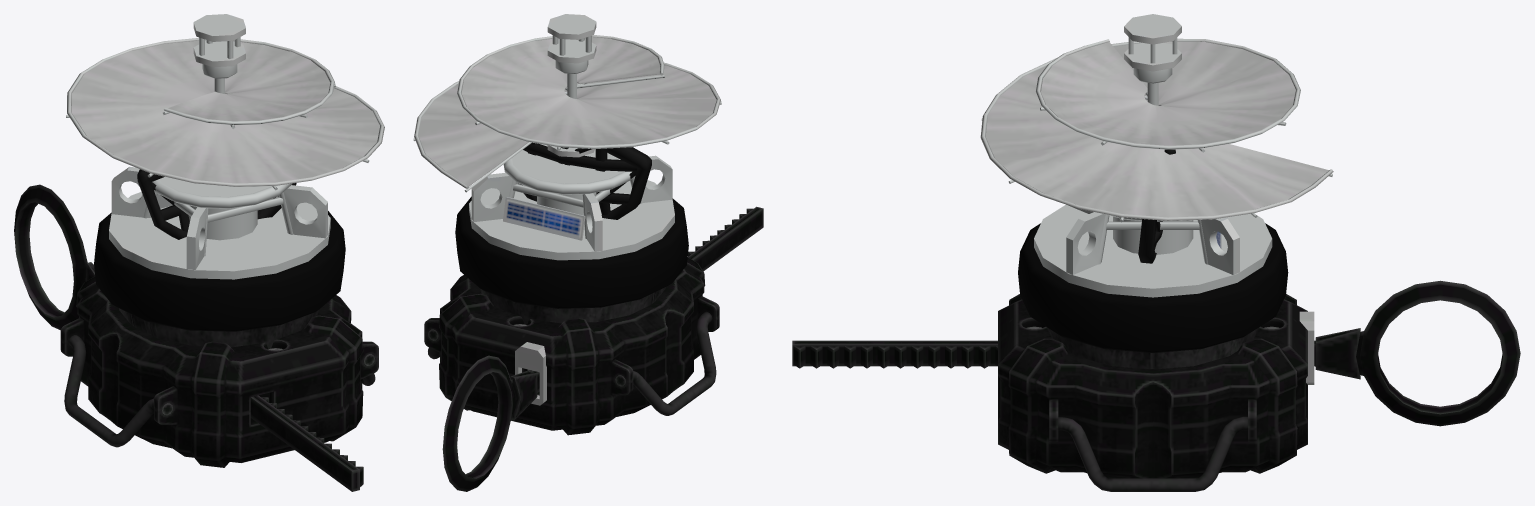
The picture shows the model from 3 angles, left to right: view 1: azimuth 30°, elevation 25°; view 2: azimuth 150°, elevation 25°; view 3: azimuth 270°, elevation 25°; orthographic projection. The views are drawn at different scales.
Visible parts, largest first — view 1: Launcher_Body_A_low__M_Launcher, Heli_1_low__M_Drone, Drone_Body_A_low__M_Drone, Drone_Tank_low__M_Bottle, Wsb_Flag__M_body.001; view 2: Launcher_Body_A_low__M_Launcher, Drone_Body_A_low__M_Drone, Heli_1_low__M_Drone, Drone_Tank_low__M_Bottle, Wsb_Flag__M_body.001; view 3: Launcher_Body_A_low__M_Launcher, Heli_1_low__M_Drone, Drone_Body_A_low__M_Drone, Drone_Tank_low__M_Bottle, Wsb_Flag__M_body.001.
Part boxes in pixels (bbox=[...]): Launcher_Body_A_low__M_Launcher: bbox=[14, 184, 378, 491]; Heli_1_low__M_Drone: bbox=[71, 40, 379, 183]; Drone_Body_A_low__M_Drone: bbox=[66, 14, 384, 349]; Drone_Tank_low__M_Bottle: bbox=[94, 211, 345, 331]; Wsb_Flag__M_body.001: bbox=[137, 169, 296, 239]; Launcher_Body_A_low__M_Launcher: bbox=[424, 206, 763, 491]; Drone_Body_A_low__M_Drone: bbox=[413, 14, 721, 324]; Heli_1_low__M_Drone: bbox=[418, 37, 716, 186]; Drone_Tank_low__M_Bottle: bbox=[455, 196, 688, 308]; Wsb_Flag__M_body.001: bbox=[520, 142, 651, 219]; Launcher_Body_A_low__M_Launcher: bbox=[792, 280, 1520, 491]; Heli_1_low__M_Drone: bbox=[986, 41, 1328, 217]; Drone_Body_A_low__M_Drone: bbox=[980, 14, 1333, 368]; Drone_Tank_low__M_Bottle: bbox=[1018, 223, 1288, 352]; Wsb_Flag__M_body.001: bbox=[1138, 149, 1175, 263].
Bounding box in the file's own units: 1.49 × 1.97 × 3.12.
5 materials, 4 textured.
